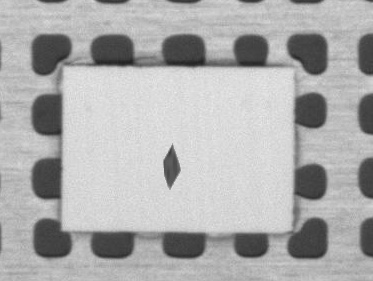DIE_INK: (214, 101, 243, 148)
